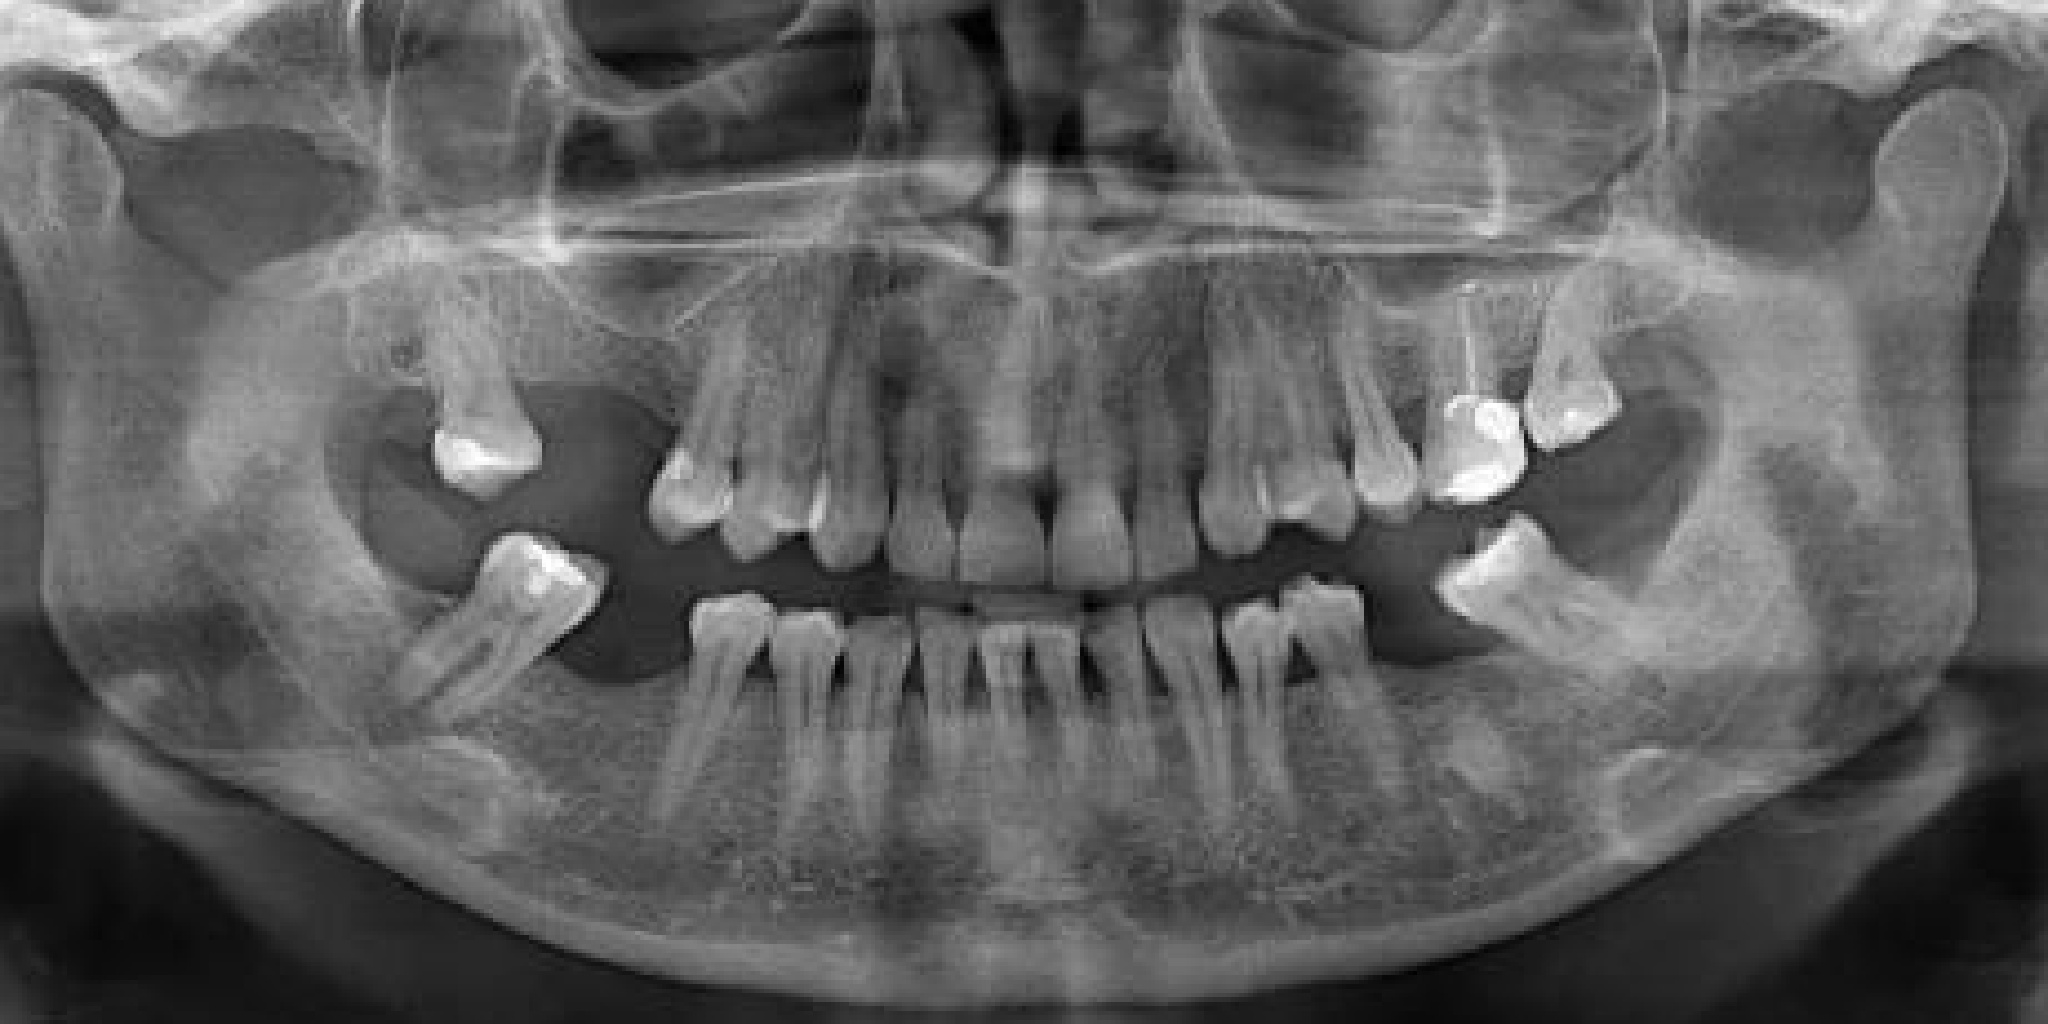Tooth: (370, 495, 630, 775), (1192, 277, 1375, 564), (1298, 266, 1446, 539), (947, 306, 1068, 597), (1165, 270, 1281, 564), (1031, 312, 1142, 596), (1109, 342, 1208, 586), (1070, 598, 1174, 795), (904, 601, 977, 829), (968, 609, 1050, 799), (1024, 611, 1101, 799)
